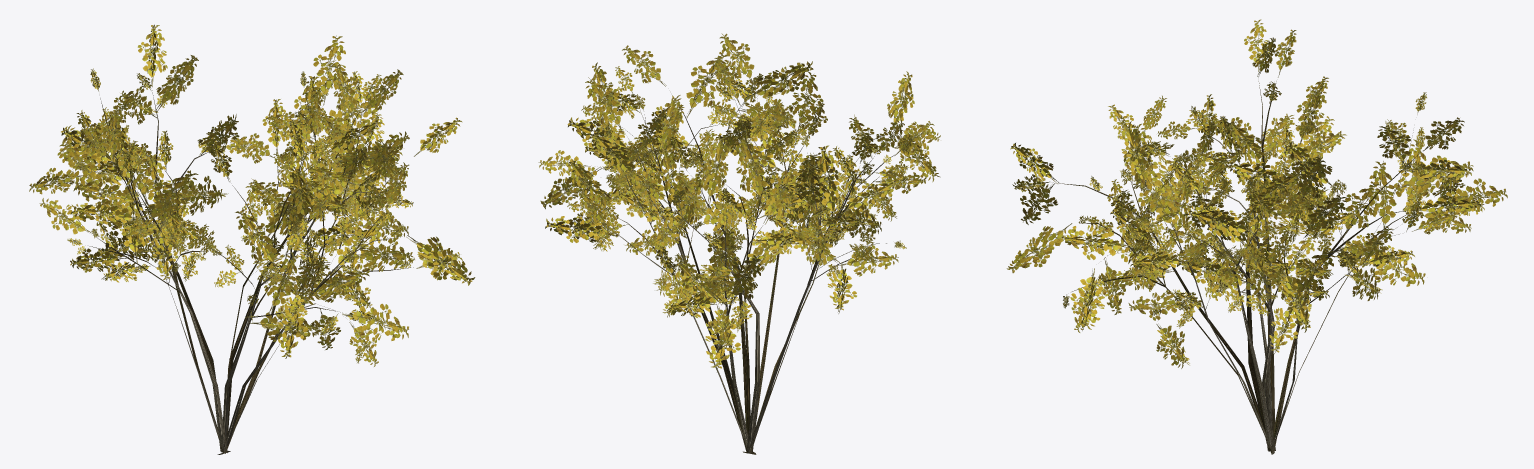
File: ez_bush_a.glb
3 views of the same model, side by side, from view 1: azimuth 30°, elevation 25°; view 2: azimuth 150°, elevation 25°; view 3: azimuth 270°, elevation 25° (orthographic).
Visible parts, largest first — view 1: Tree; view 2: Tree; view 3: Tree.
Boxes of the visible parts, x1,y1,x2,y2 form: Tree: [29, 24, 475, 454]; Tree: [538, 33, 940, 454]; Tree: [1006, 19, 1507, 454].
Size of the model in its own units: 31.35 by 29.67 by 38.1.
Materials: 2 (2 with a texture image).
